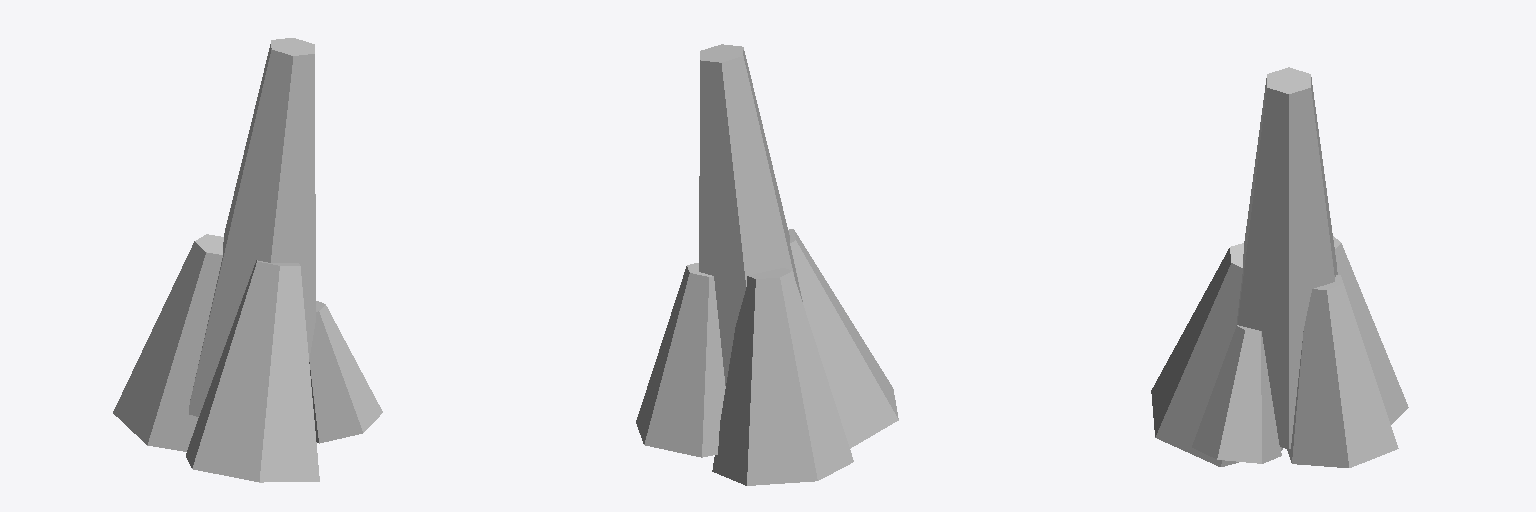
Rendered from prop_1.obj.
3 renders of one model, left to right at view 1: azimuth 30°, elevation 25°; view 2: azimuth 150°, elevation 25°; view 3: azimuth 270°, elevation 25°, orthographic.
Parts seen in each view (by area): view 1: Cone.5; view 2: Cone.5; view 3: Cone.5.
Part boxes in pixels (bbox=[...]): Cone.5: bbox=[113, 38, 382, 482]; Cone.5: bbox=[636, 44, 898, 485]; Cone.5: bbox=[1151, 67, 1408, 467].
Size of the model in its own units: 75.3 by 147 by 86.16.